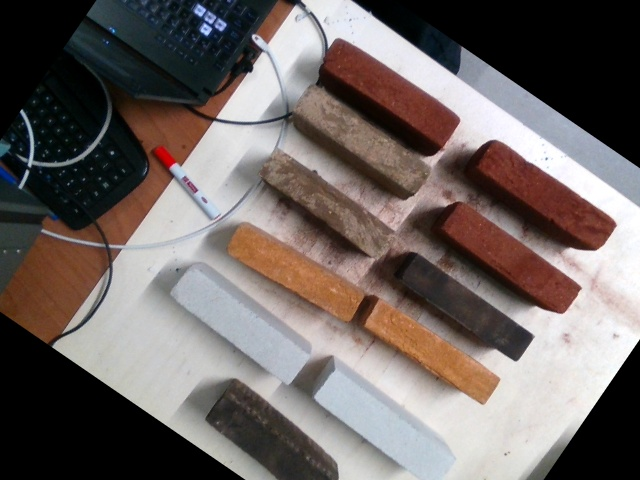brick-side: (171, 267, 309, 386), (441, 199, 580, 317), (474, 137, 615, 252), (397, 251, 537, 363), (321, 37, 464, 146), (315, 370, 455, 479), (297, 85, 432, 196), (262, 151, 396, 261), (364, 300, 502, 404), (229, 223, 366, 326), (204, 393, 342, 479)
